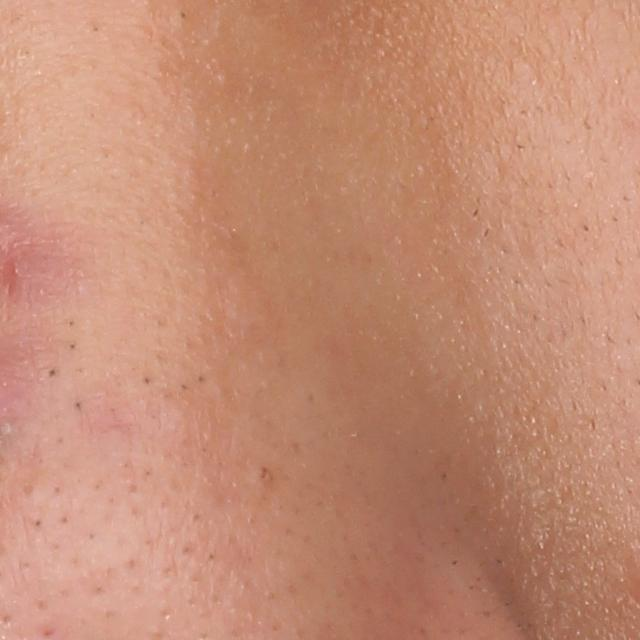comedo: (250, 461, 278, 489), (170, 5, 195, 27)
